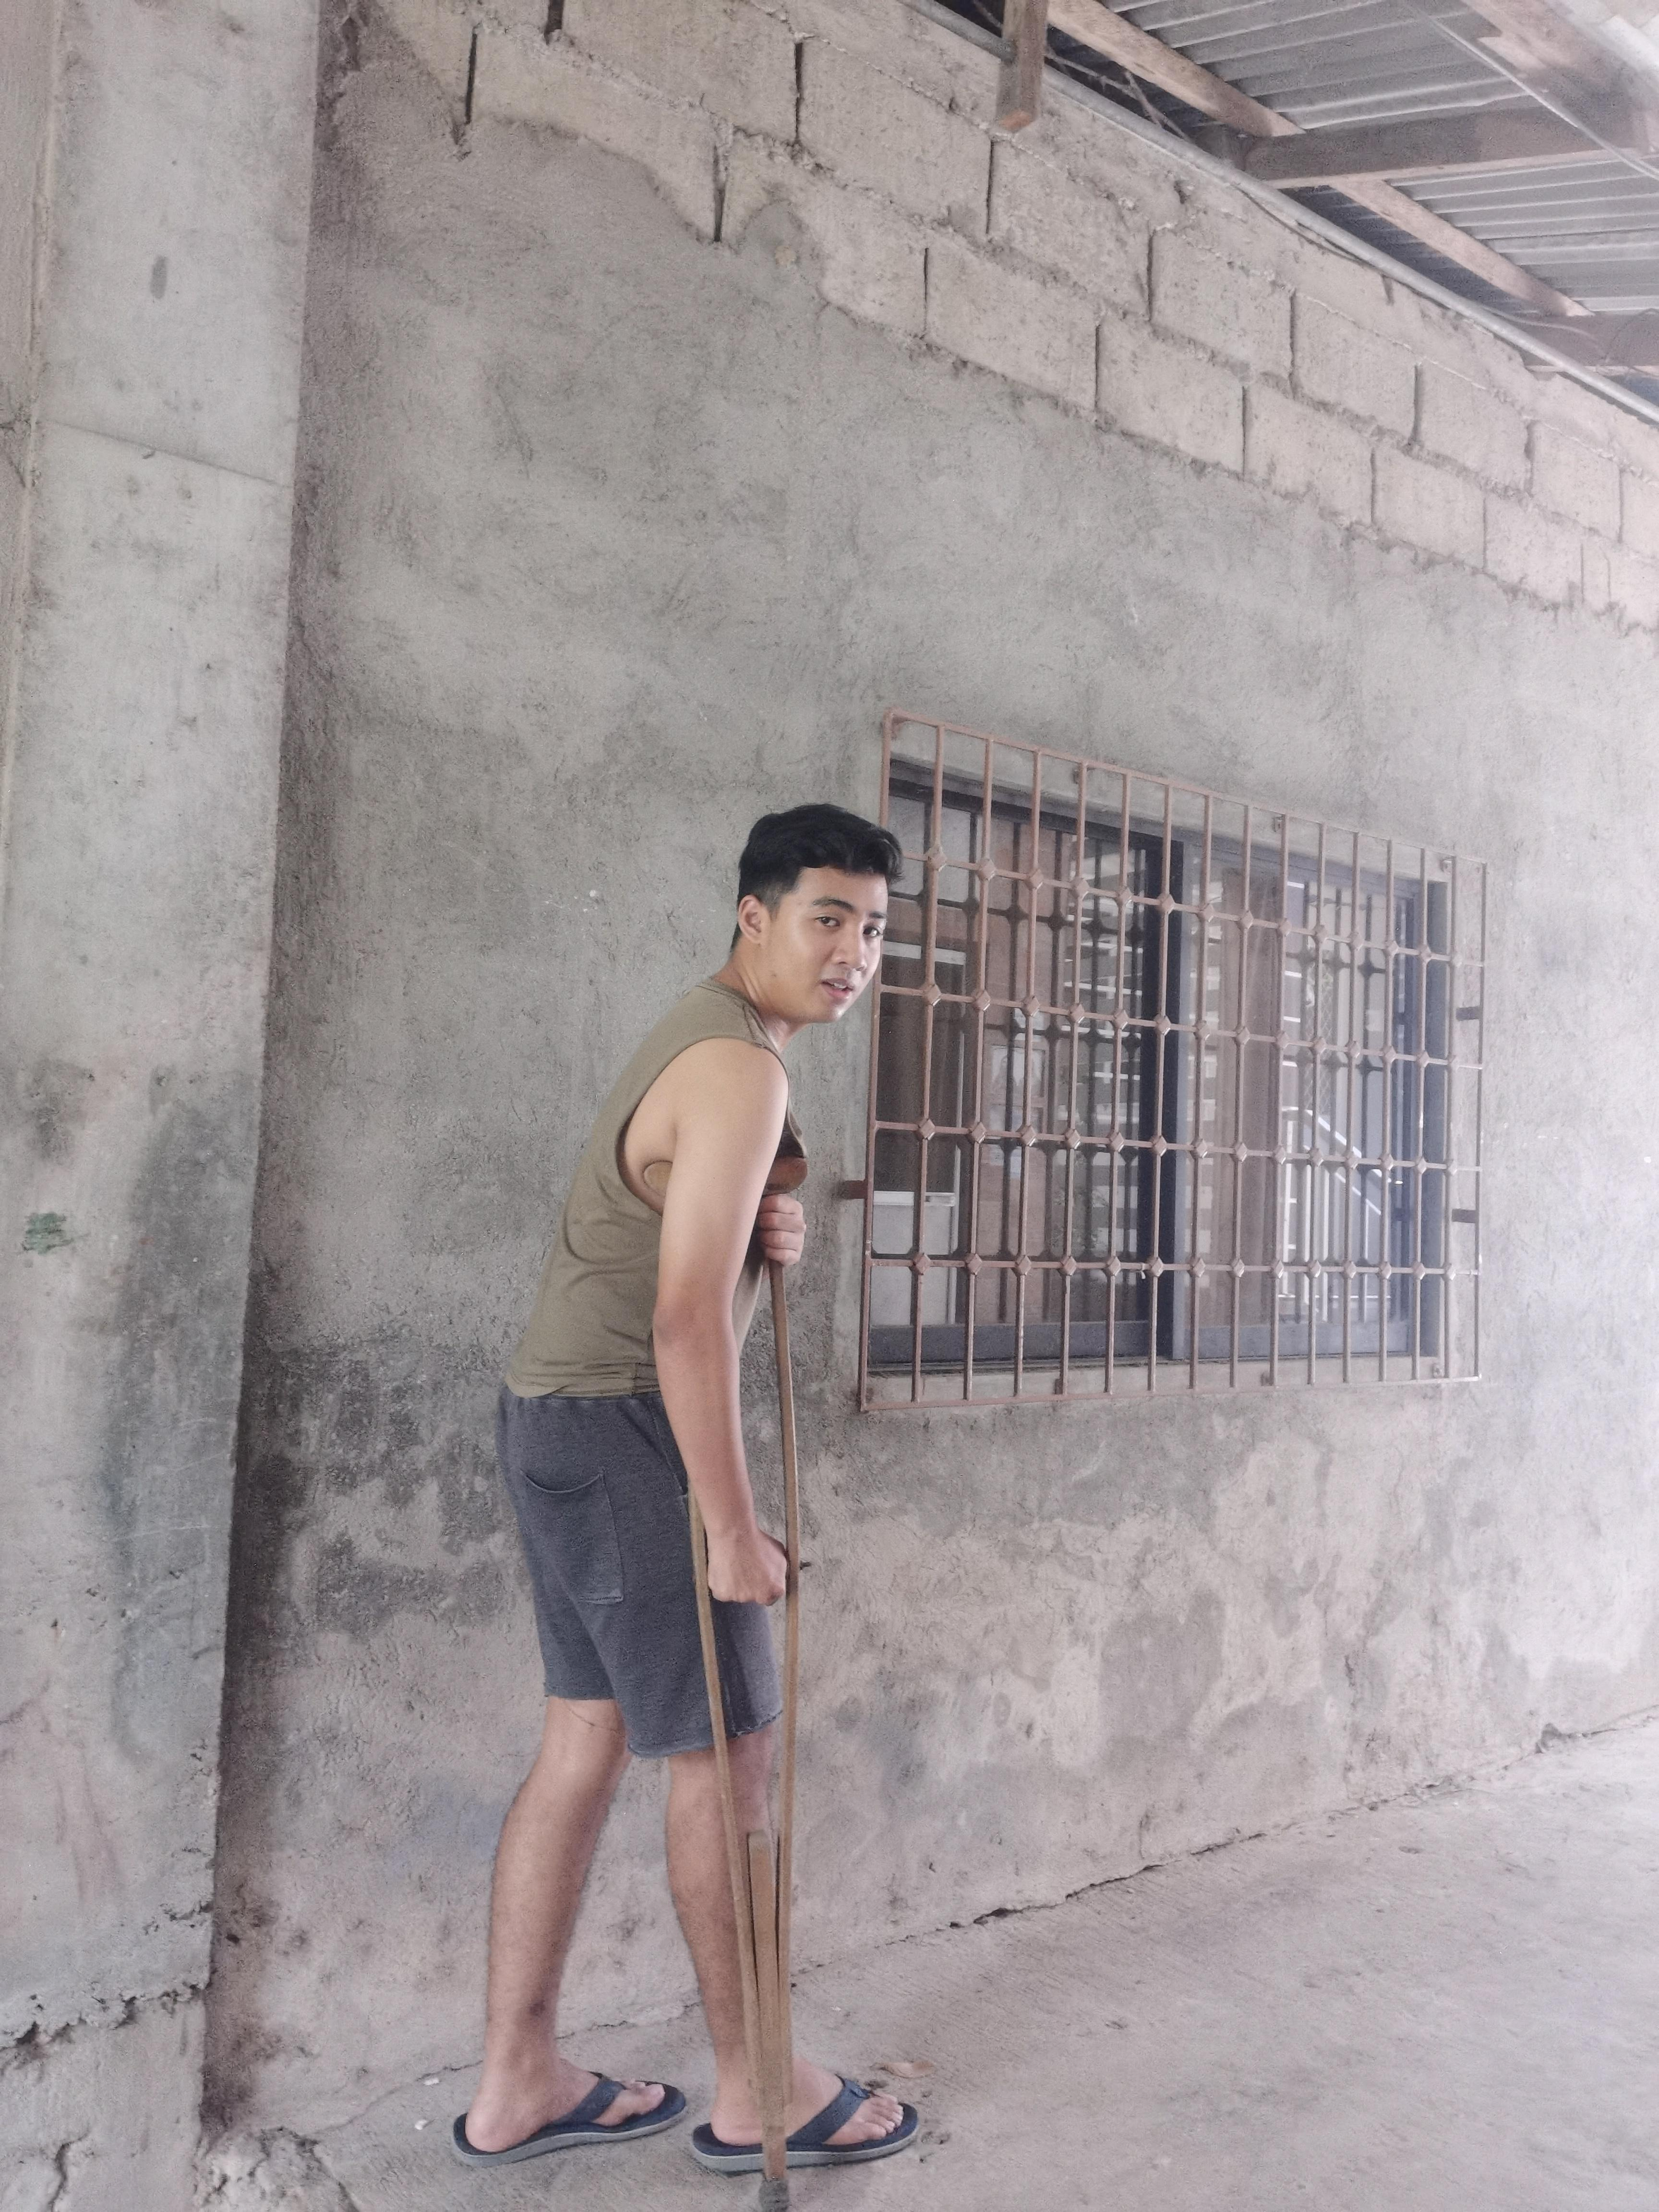crutches: (446, 779, 936, 2212)
